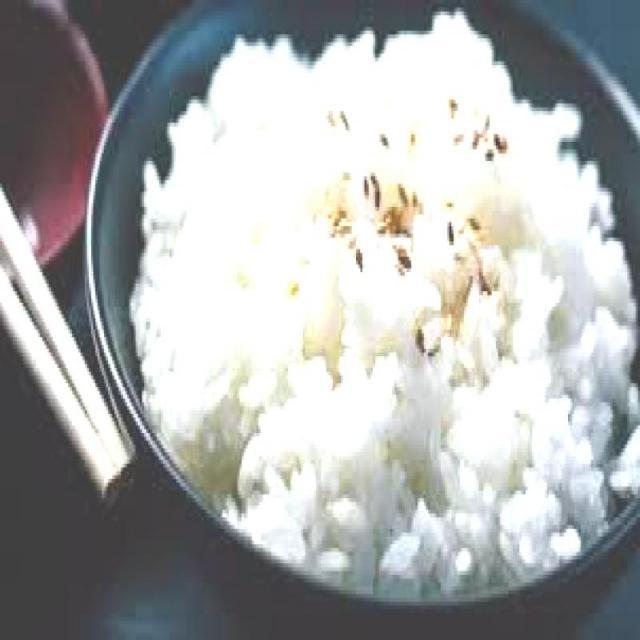Chicken -Chicken Inasal-: (153, 134, 633, 599)
